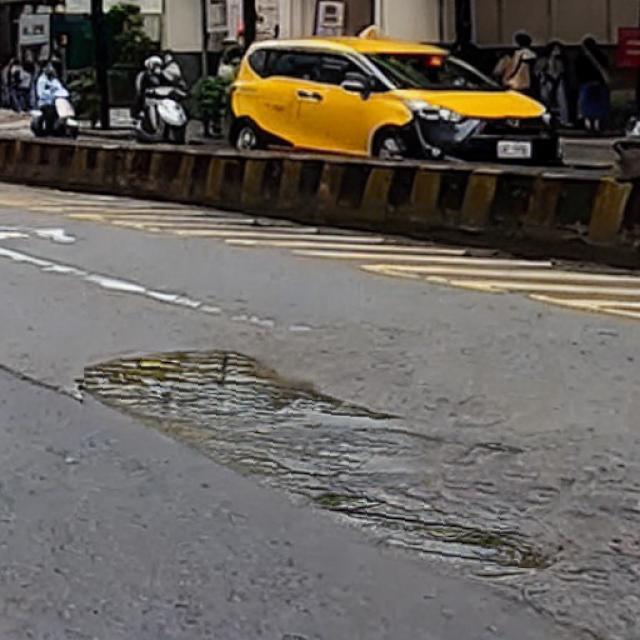puddle: (78, 348, 565, 564)
